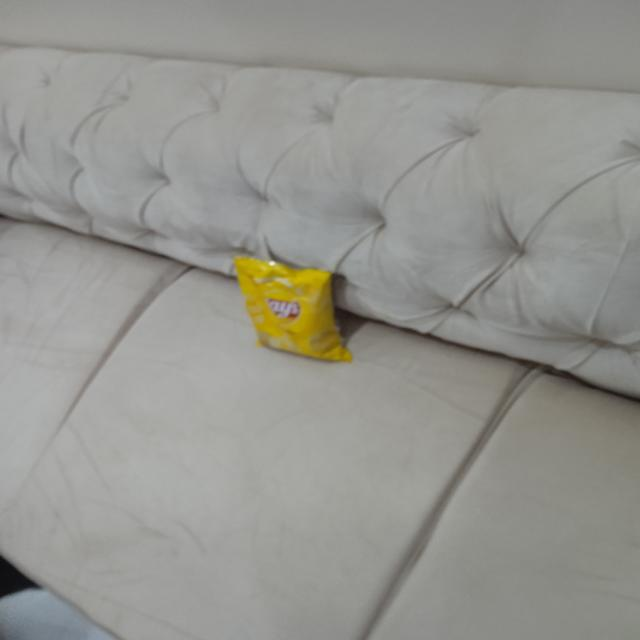Plastic: (232, 251, 354, 363)
